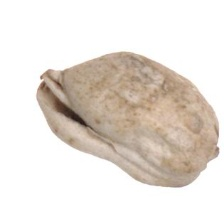L1: (33, 64, 84, 126), (205, 128, 220, 169)
L2: (35, 51, 220, 188)
